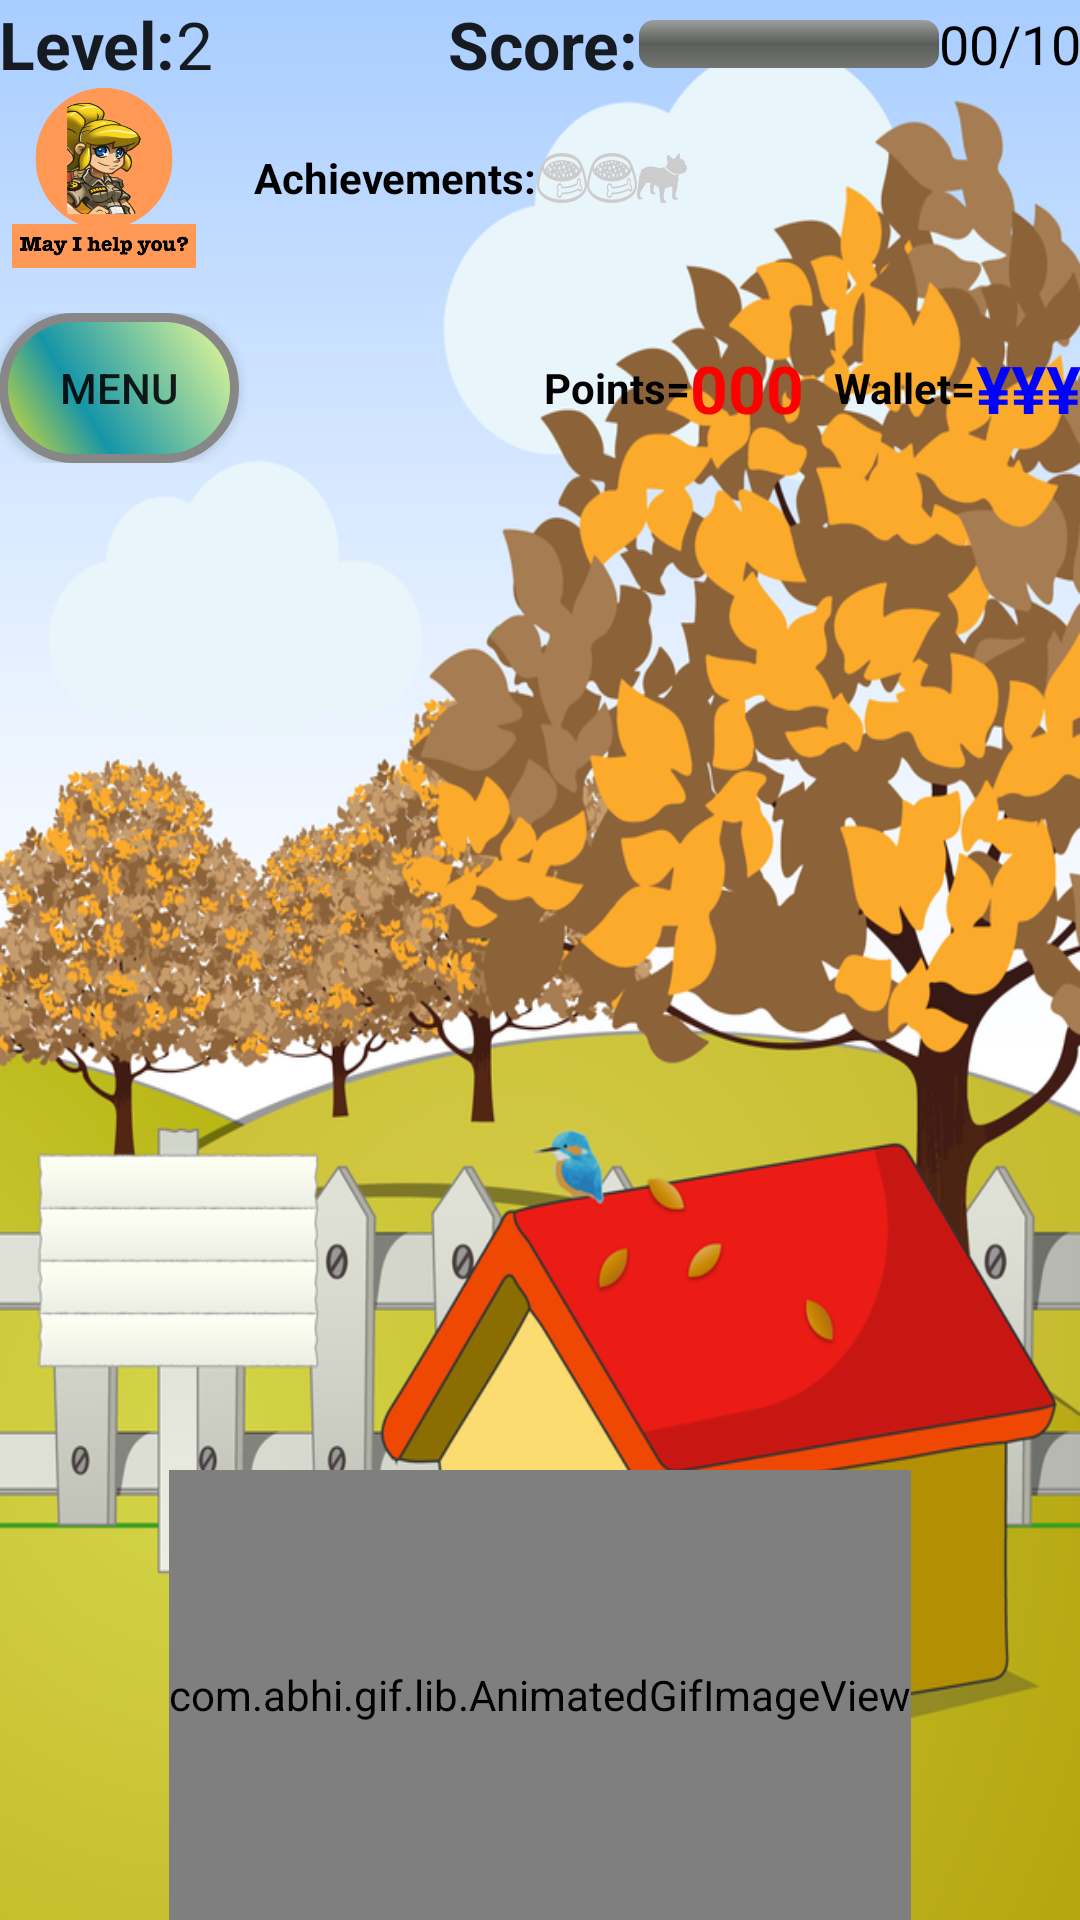

Where icons sit on this 1080px x 1920px app screen, as [x1,y1,x2,y2]:
dog plate: [537,153,587,203], [587,153,637,203]
